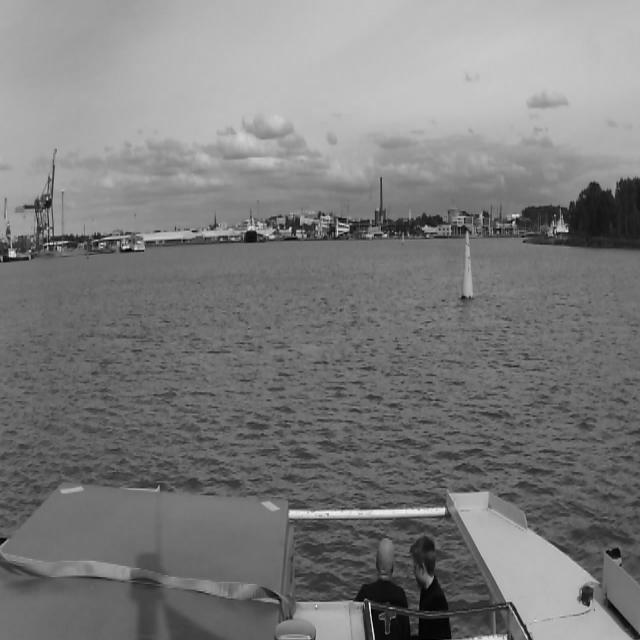buoy: (463, 230, 472, 298), (401, 230, 405, 246)
ship: (245, 202, 258, 245)
